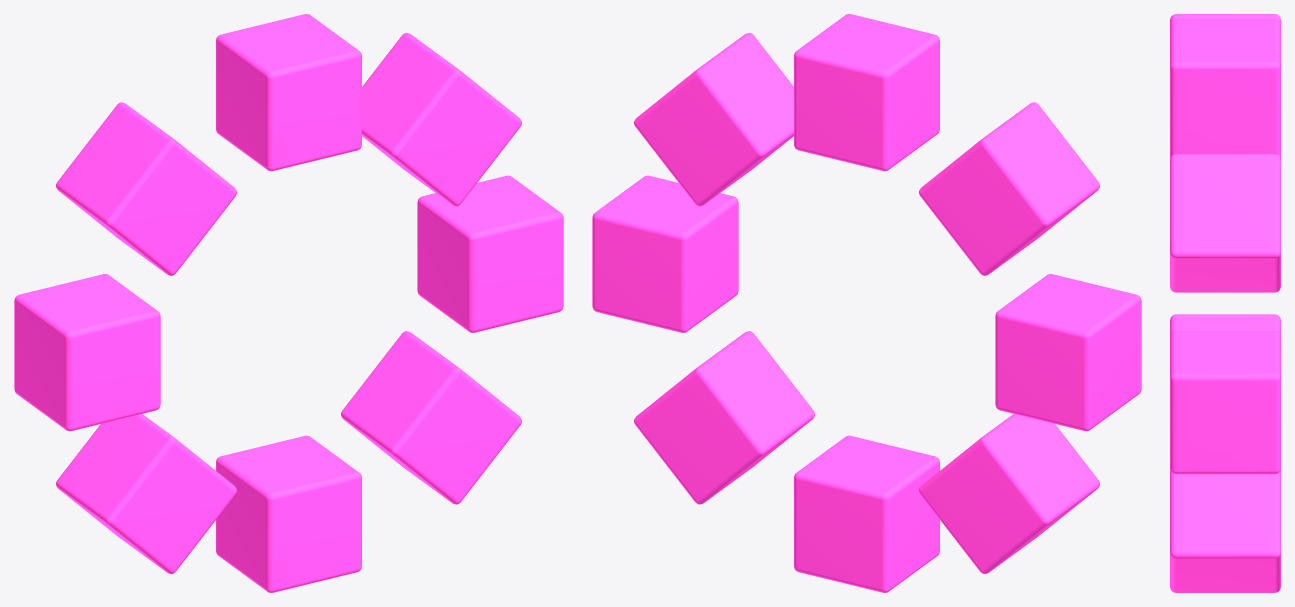
File: WackyWheel.fbx
The picture shows the model from 3 angles, left to right: view 1: azimuth 30°, elevation 25°; view 2: azimuth 150°, elevation 25°; view 3: azimuth 270°, elevation 25°; orthographic projection.
Visible parts, largest first — view 1: WackyWheel; view 2: WackyWheel; view 3: WackyWheel.
Part boxes in pixels (x1=…): WackyWheel: x1=14, y1=14, x2=563, y2=592; WackyWheel: x1=592, y1=14, x2=1141, y2=592; WackyWheel: x1=1170, y1=14, x2=1280, y2=592.
Size of the model in its own units: 2.51 by 2.51 by 0.4795.
